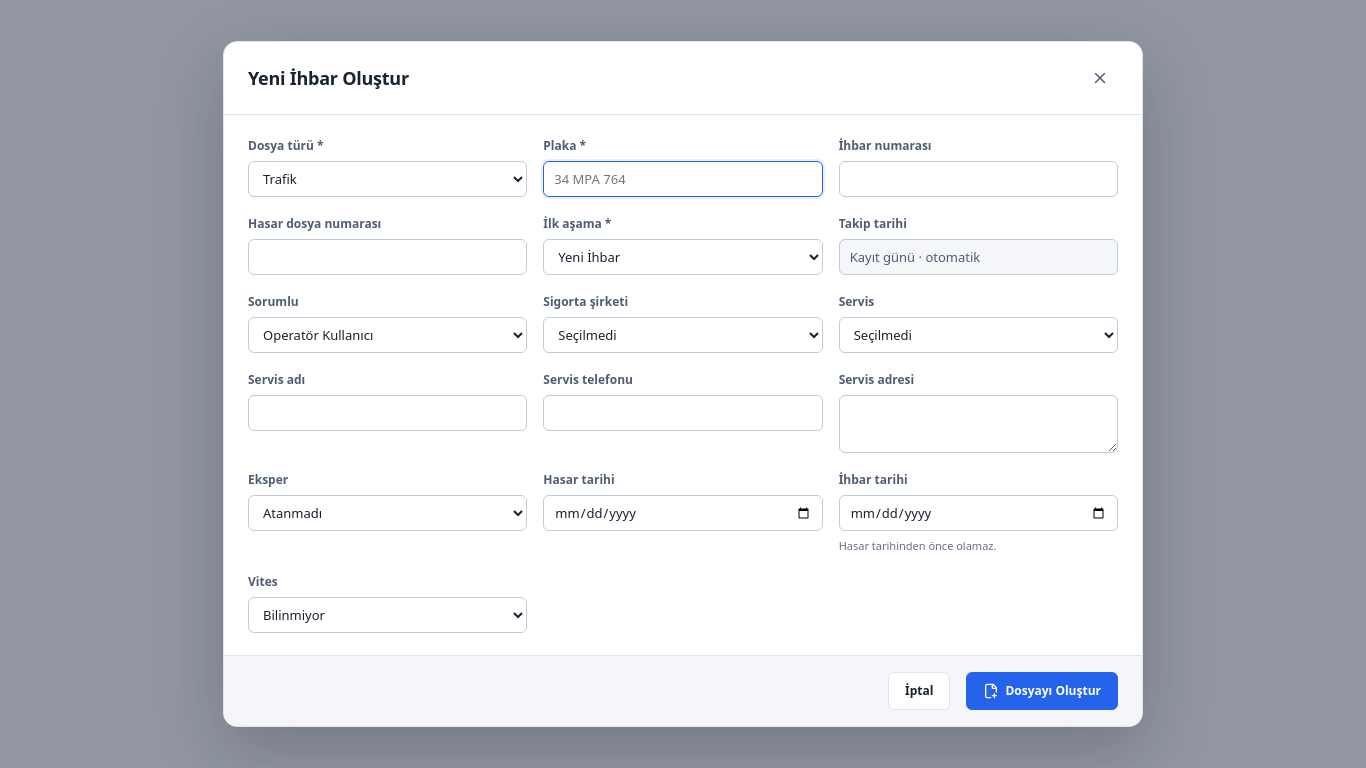
Test case: CaseCreateModal gerçek API komut akışı › backend validation hatasını alan bazlı ve teknik ayrıntısız gösterir
Type "AB" into the field labelled "Plaka *" at (683,179), box [543,161,823,197]
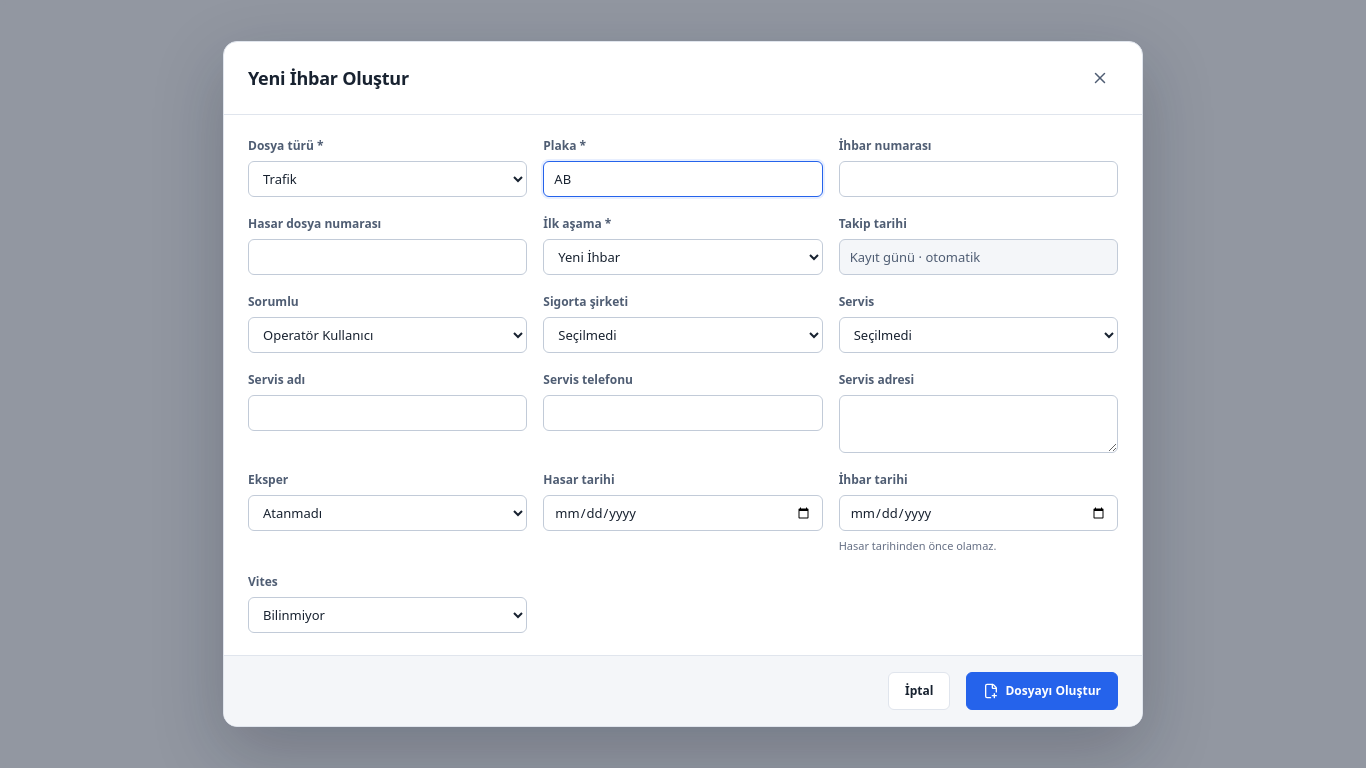
Click the button "Dosyayı Oluştur" at (1042,691), box [966,672,1118,710]
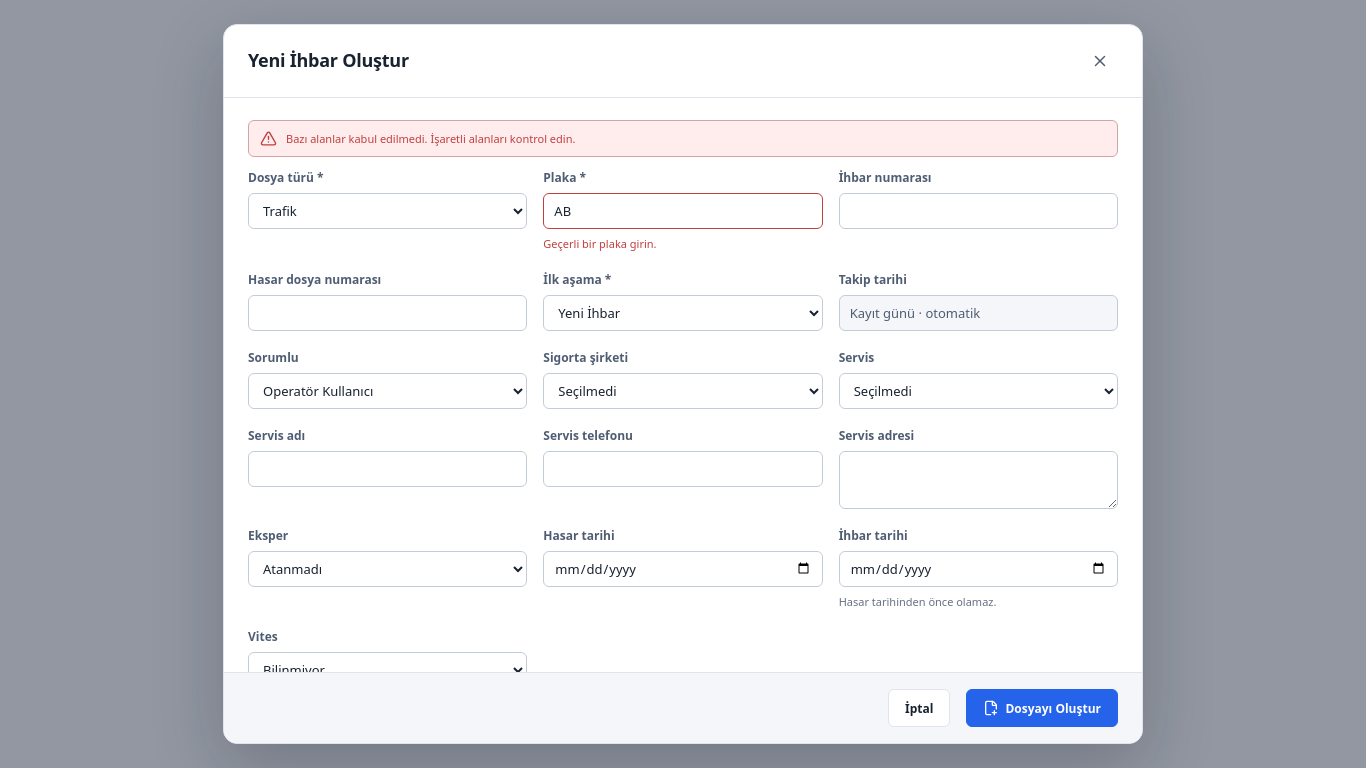
Result: the text "Geçerli bir plaka girin." is shown at [543,236,656,251]
Result: the message shows "Bazı alanlar kabul edilmedi" at [286,131,575,146]
